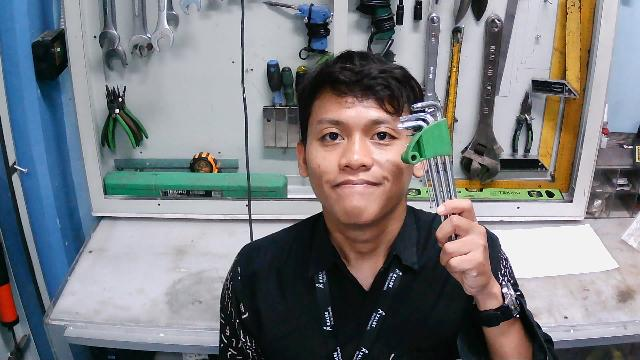kunci_l_bintang: (395, 97, 455, 254)
